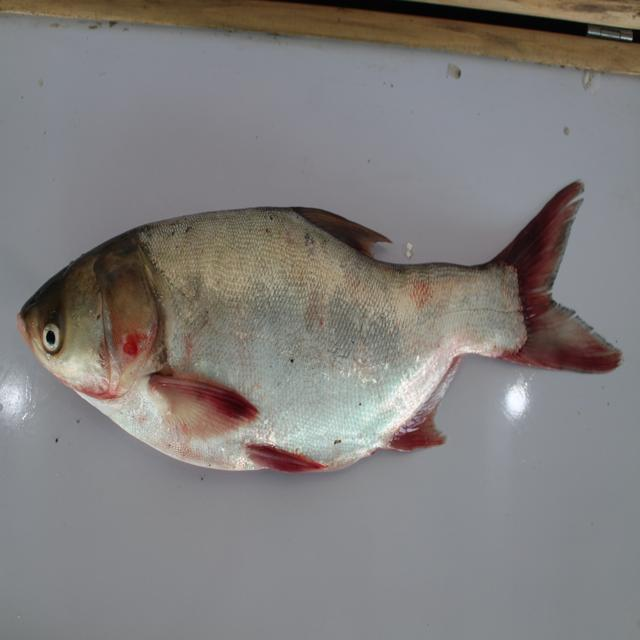SilverCarp: (20, 187, 612, 484)
